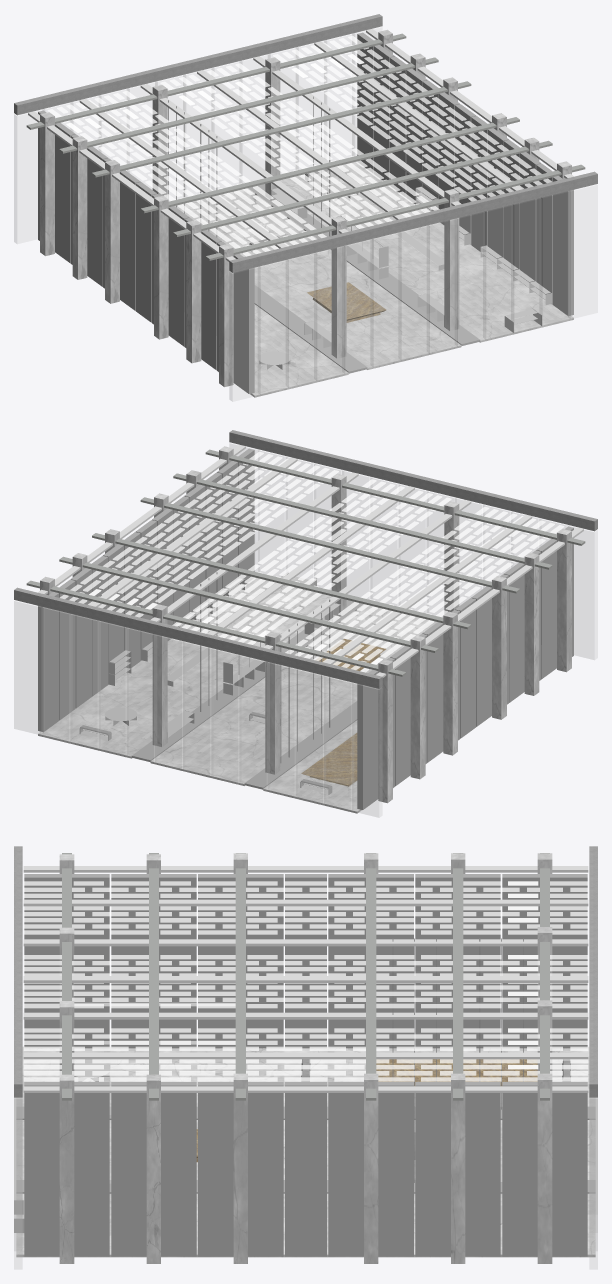
Rendered from mm6s-opt.glb.
The picture shows the model from 3 angles, top to bottom: view 1: azimuth 30°, elevation 25°; view 2: azimuth 150°, elevation 25°; view 3: azimuth 270°, elevation 25°; orthographic projection. The views are drawn at different scales.
Parts seen in each view (by area): view 1: DIS CAM.001, marb;e matte.003, GALCANIZED.001, ISIK.001, Merged Objects 6.001, Mesh_5.001, Merged Objects 5.001, ZEMIN ONYX.001, Mesh_4.001, TAS MASA.001; view 2: DIS CAM.001, marb;e matte.003, GALCANIZED.001, ISIK.001, Merged Objects 6.001, Mesh_5.001, Merged Objects 5.001, ZEMIN ONYX.001, Mesh_4.001, TAS MASA.001; view 3: GALCANIZED.001, ISIK.001, marb;e matte.003, Merged Objects 5.001, Merged Objects 6.001, Mesh_5.001, TAS MASA.001, DIS CAM.001, ZEMIN ONYX.001, Mesh_4.001.
Part boxes in pixels (x1=…): DIS CAM.001: x1=14, y1=27, x2=597, y2=401; marb;e matte.003: x1=40, y1=29, x2=573, y2=397; GALCANIZED.001: x1=38, y1=32, x2=573, y2=393; ISIK.001: x1=47, y1=35, x2=552, y2=256; Merged Objects 6.001: x1=26, y1=33, x2=585, y2=260; Mesh_5.001: x1=14, y1=14, x2=597, y2=272; Merged Objects 5.001: x1=28, y1=29, x2=573, y2=261; ZEMIN ONYX.001: x1=183, y1=163, x2=562, y2=390; Mesh_4.001: x1=184, y1=172, x2=552, y2=369; TAS MASA.001: x1=307, y1=282, x2=386, y2=322; DIS CAM.001: x1=14, y1=443, x2=597, y2=817; marb;e matte.003: x1=38, y1=446, x2=571, y2=813; GALCANIZED.001: x1=38, y1=448, x2=573, y2=809; ISIK.001: x1=59, y1=451, x2=564, y2=672; Merged Objects 6.001: x1=26, y1=449, x2=585, y2=676; Mesh_5.001: x1=14, y1=430, x2=597, y2=788; Merged Objects 5.001: x1=38, y1=445, x2=583, y2=677; ZEMIN ONYX.001: x1=49, y1=579, x2=428, y2=806; Mesh_4.001: x1=79, y1=572, x2=541, y2=794; TAS MASA.001: x1=301, y1=639, x2=386, y2=786; GALCANIZED.001: x1=16, y1=874, x2=595, y2=1256; ISIK.001: x1=23, y1=881, x2=588, y2=1081; marb;e matte.003: x1=16, y1=853, x2=595, y2=1263; Merged Objects 5.001: x1=23, y1=866, x2=588, y2=1092; Merged Objects 6.001: x1=62, y1=853, x2=549, y2=1100; Mesh_5.001: x1=14, y1=846, x2=597, y2=1182; TAS MASA.001: x1=196, y1=1059, x2=537, y2=1162; DIS CAM.001: x1=14, y1=1097, x2=597, y2=1269; ZEMIN ONYX.001: x1=24, y1=1051, x2=587, y2=1249; Mesh_4.001: x1=14, y1=1002, x2=570, y2=1232.
Size of the model in its own units: 40 by 14.32 by 40.32.
11 materials, 3 textured.
